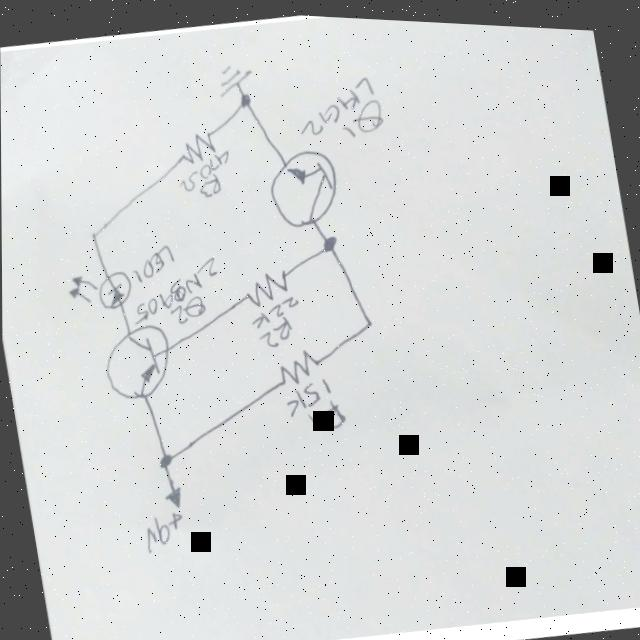diode: (65, 263, 137, 318)
ground: (212, 56, 257, 100)
junction: (321, 230, 339, 250), (157, 448, 175, 468), (238, 89, 252, 106), (361, 311, 375, 327), (85, 226, 99, 242)
resistor: (241, 262, 292, 309), (277, 342, 322, 386), (176, 126, 217, 167)
source: (159, 479, 185, 510)
text: (123, 248, 226, 333), (290, 64, 387, 146), (281, 371, 348, 437), (172, 141, 236, 201), (247, 289, 307, 351), (127, 239, 178, 286), (137, 509, 185, 555)
transistor: (261, 138, 347, 232), (97, 317, 178, 405)
